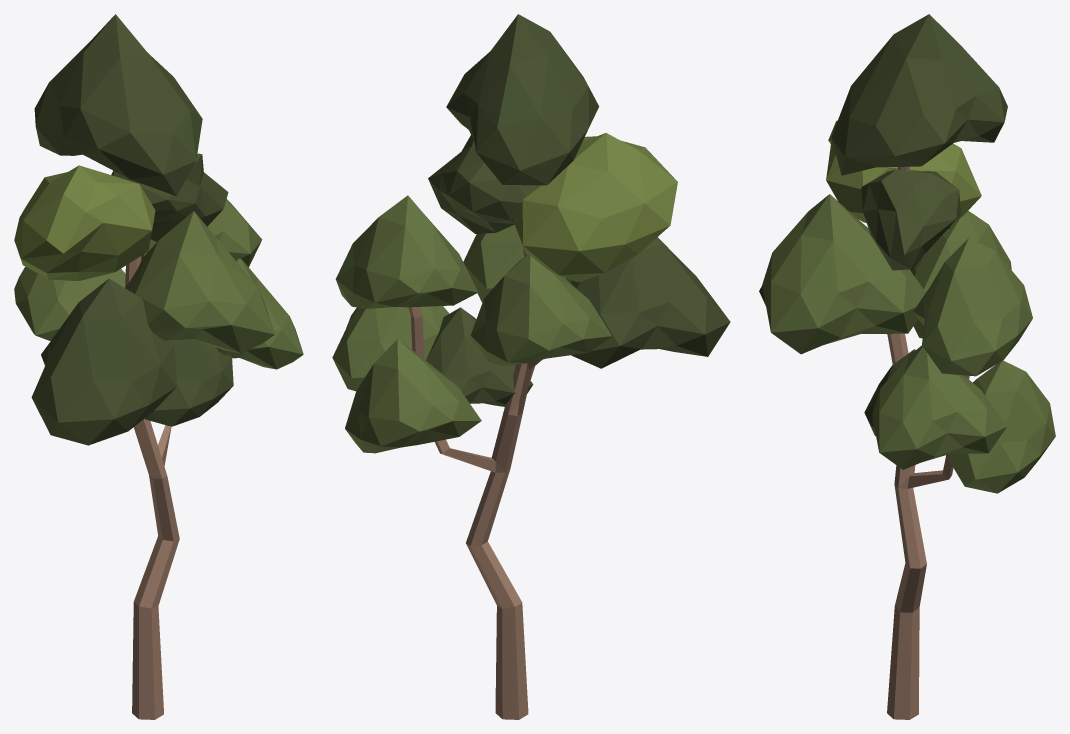
The model's file is Tree_Type4_05.glb.
3 renders of one model, left to right at view 1: azimuth 30°, elevation 25°; view 2: azimuth 150°, elevation 25°; view 3: azimuth 270°, elevation 25°, orthographic. The views are drawn at different scales.
Parts seen in each view (by area): view 1: Tree Type4 05 Model; view 2: Tree Type4 05 Model; view 3: Tree Type4 05 Model.
Boxes of the visible parts, x1,y1,x2,y2 form: Tree Type4 05 Model: (14, 14, 303, 719); Tree Type4 05 Model: (332, 14, 730, 719); Tree Type4 05 Model: (759, 14, 1055, 719).
Bounding box in the file's own units: 3.03 × 6.56 × 2.56.
Materials: 1 (1 with a texture image).
